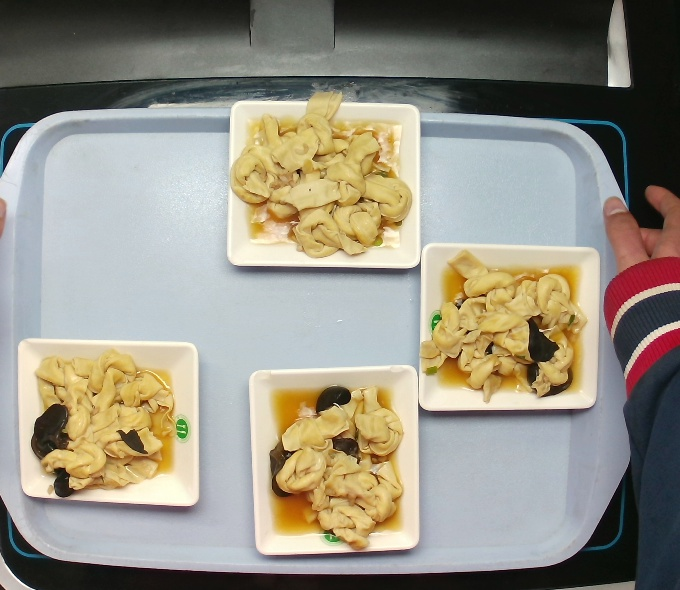wcq-QianZhangJie: (220, 89, 421, 266), (415, 252, 595, 404), (34, 346, 179, 509), (262, 392, 407, 539)
